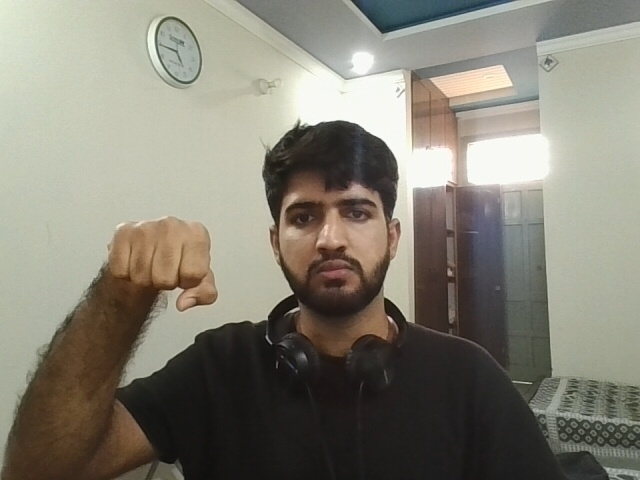Yes: (94, 198, 234, 323)
